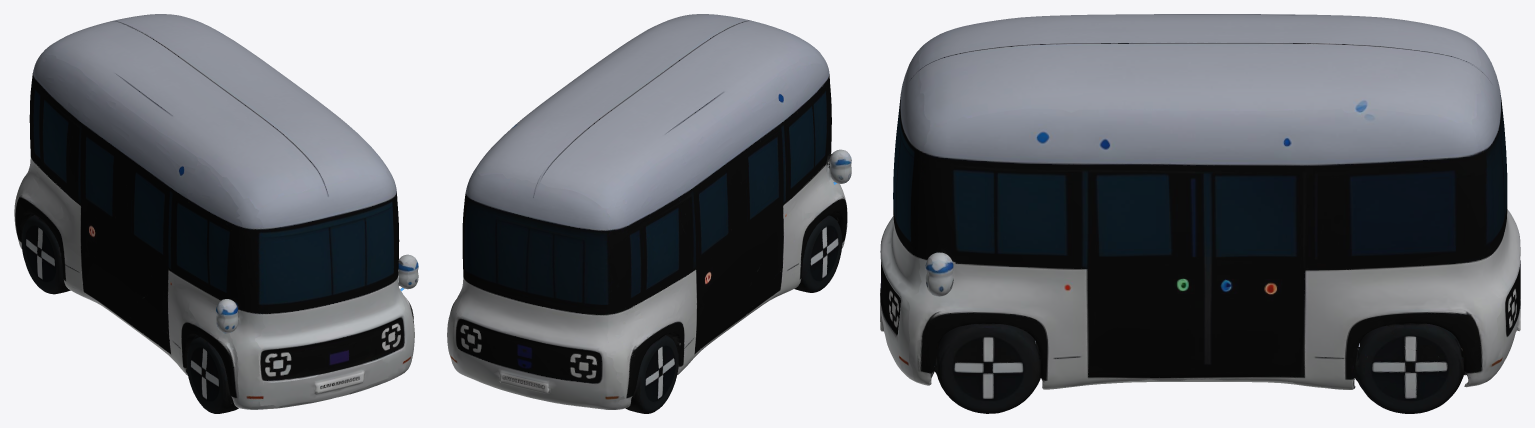
File: roii_reconfig_recon.glb
3 renders of one model, left to right at view 1: azimuth 30°, elevation 25°; view 2: azimuth 150°, elevation 25°; view 3: azimuth 270°, elevation 25°, orthographic. The views are drawn at different scales.
Visible parts, largest first — view 1: textured_meshobj; view 2: textured_meshobj; view 3: textured_meshobj.
Part boxes in pixels (x1,y1,x2,y2): textured_meshobj: (14, 14, 418, 413); textured_meshobj: (447, 14, 851, 413); textured_meshobj: (880, 14, 1520, 413).
Bounding box in the file's own units: 18.42 × 21.74 × 40.
38 materials, 6 textured.
